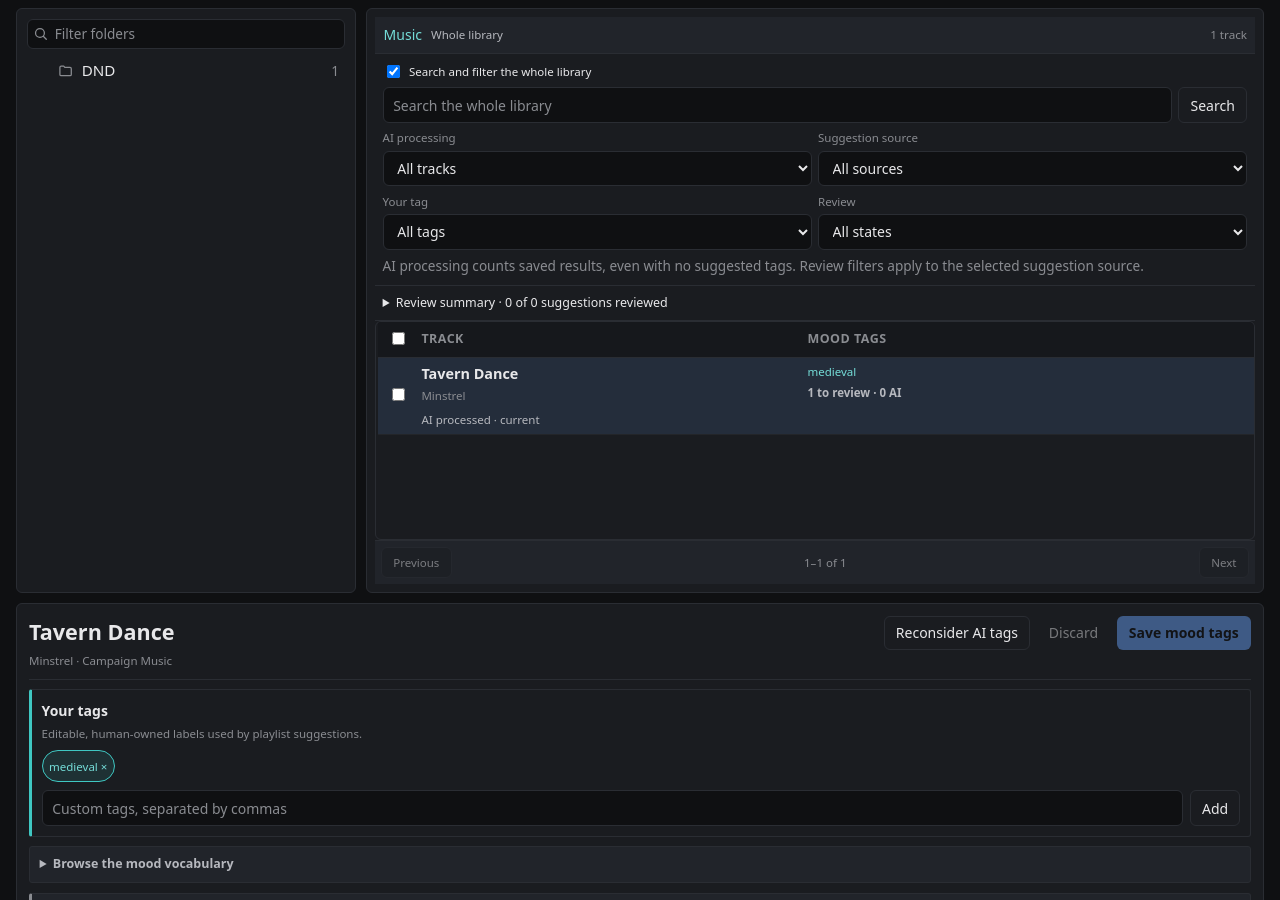
Scenario: LibraryTagEditor › uses the library folder rail to browse mood tags
The width and height of the screenshot is (1280, 900).
Check: the heading "Tavern Dance" is shown, box [29, 616, 174, 648]
What coordinates should you click on to do the following:
click the list item titled "DND"
I would click on:
 (186, 71)
Its box is [27, 55, 345, 86].
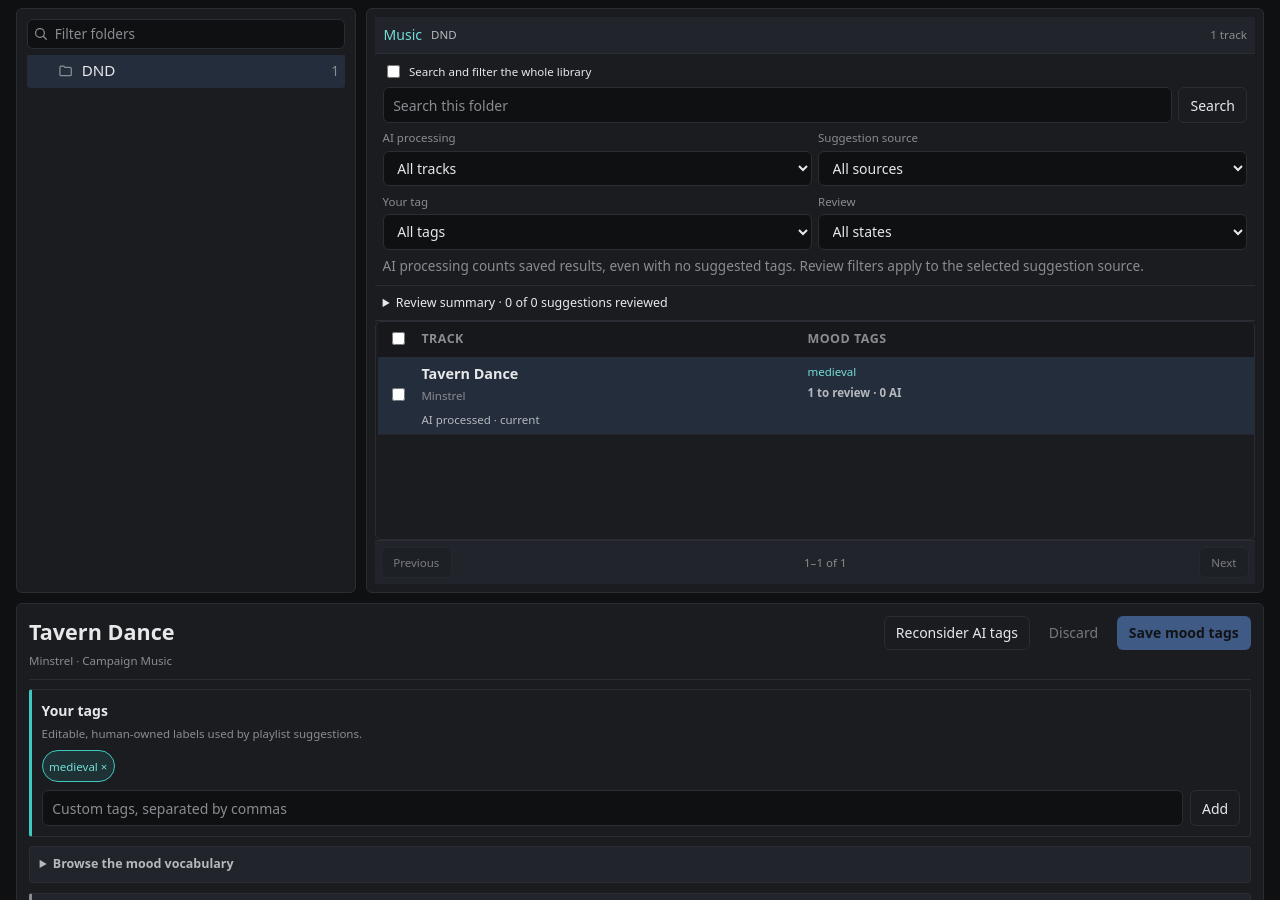
Check: the 1st text "DND" is shown, box [431, 27, 457, 42]
